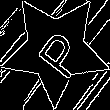P_NW: (25, 19, 85, 80)
